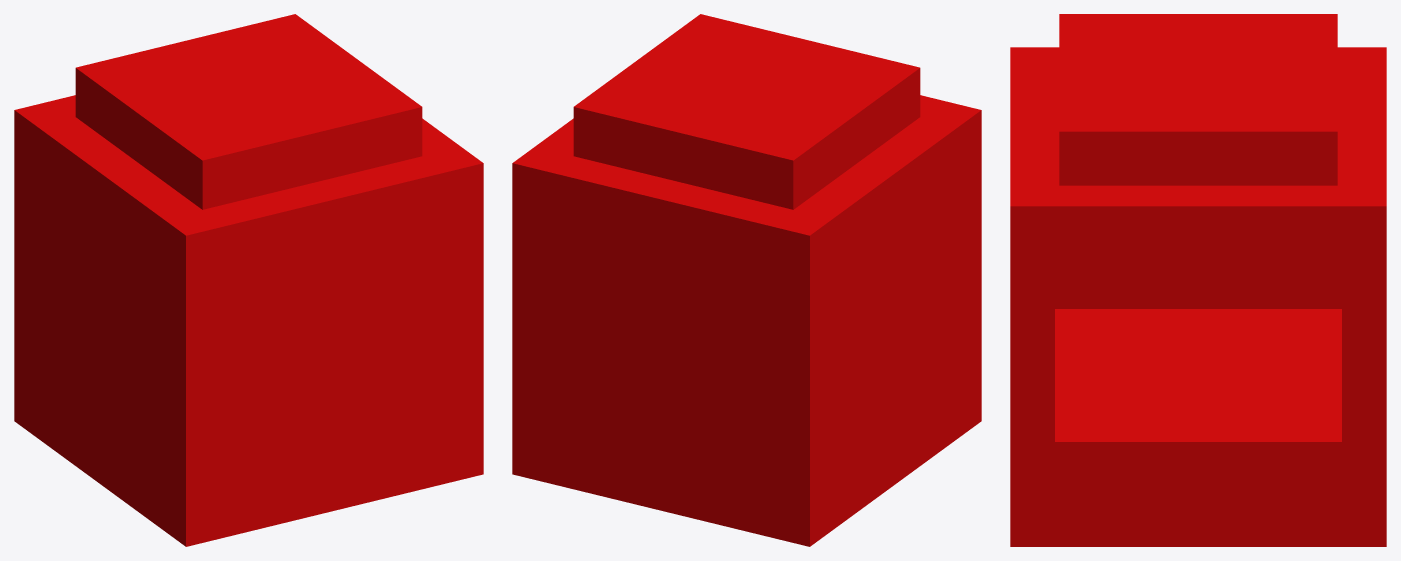
File: foodOutputPlaceholder.fbx
The picture shows the model from 3 angles, left to right: view 1: azimuth 30°, elevation 25°; view 2: azimuth 150°, elevation 25°; view 3: azimuth 270°, elevation 25°; orthographic projection. The views are drawn at different scales.
Visible parts, largest first — view 1: Cube; view 2: Cube; view 3: Cube.
Part boxes in pixels (x1,y1,x2,y2): Cube: (14, 14, 483, 546); Cube: (512, 14, 981, 546); Cube: (1010, 14, 1386, 546).
Bounding box in the file's own units: 200 × 200 × 232.
